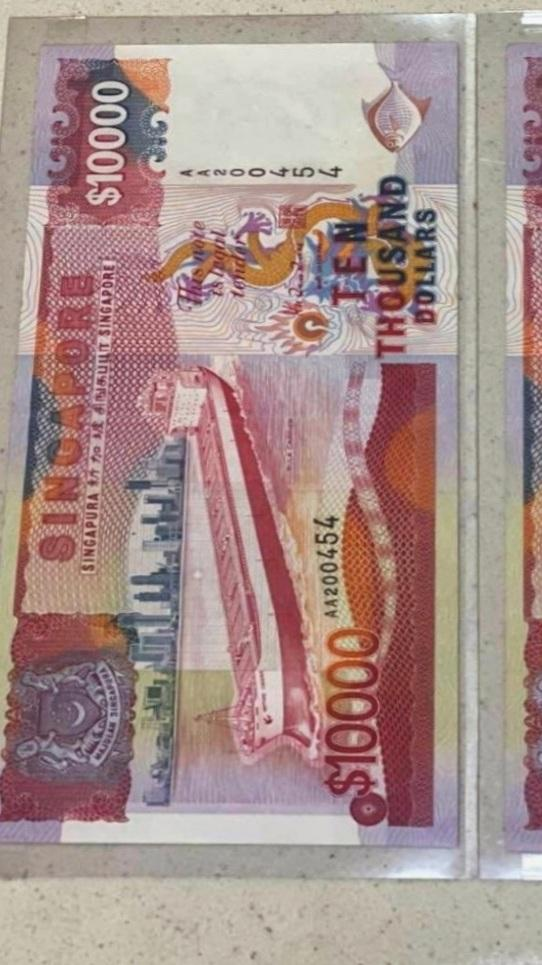10000SingaporeDollar: (0, 43, 454, 838)
